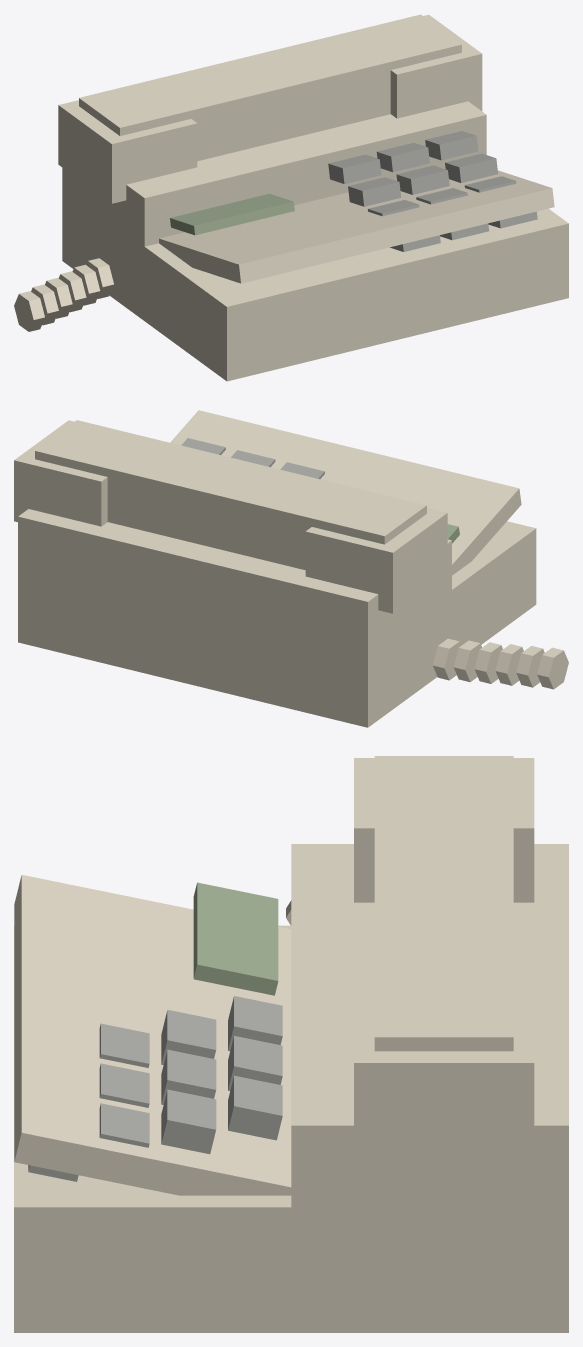
The model's file is phone_push.glb.
3 views of the same model, one above another, from view 1: azimuth 30°, elevation 25°; view 2: azimuth 150°, elevation 25°; view 3: azimuth 270°, elevation 25° (orthographic). The views are drawn at different scales.
Parts seen in each view (by area): view 1: phone_push; view 2: phone_push; view 3: phone_push.
Boxes of the visible parts, box(x1,y1,x2,y2) form: phone_push: box(14, 14, 568, 381); phone_push: box(14, 410, 568, 727); phone_push: box(14, 756, 568, 1332).
Size of the model in its own units: 0.329 by 0.1175 by 0.2.
